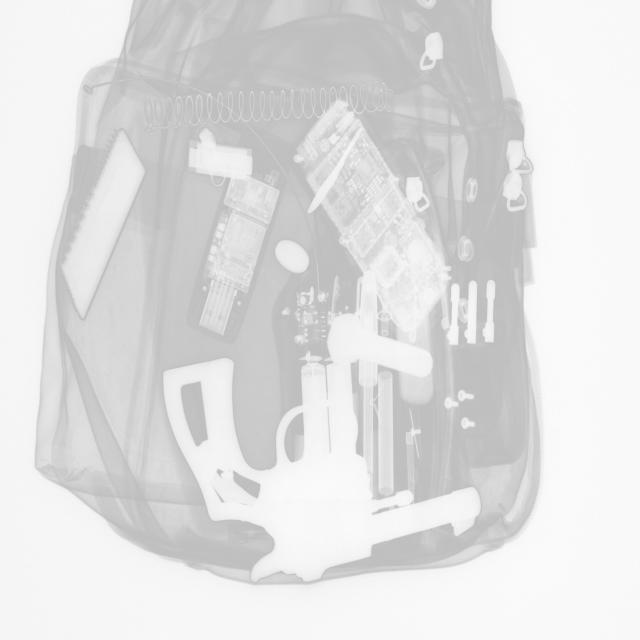pistol: (163, 356, 481, 582)
